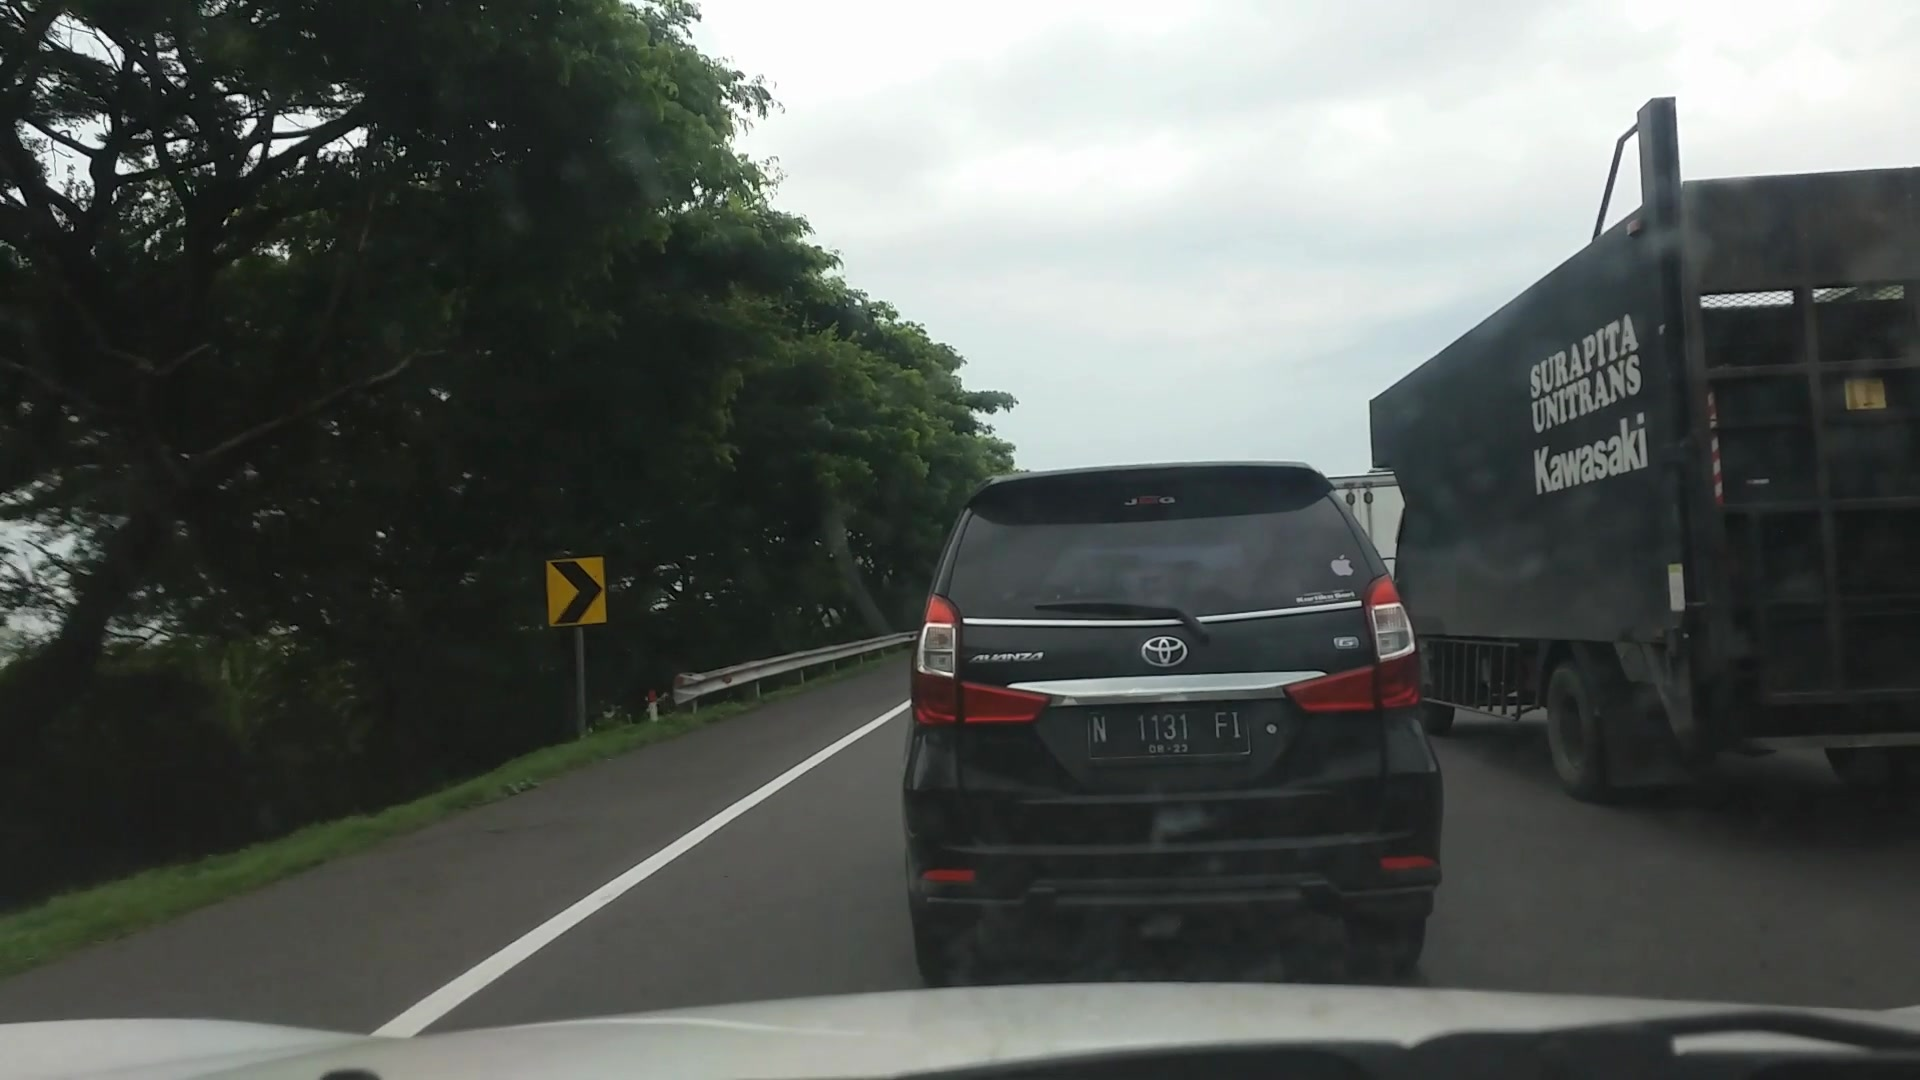plate_positive: (1087, 708, 1250, 760)
